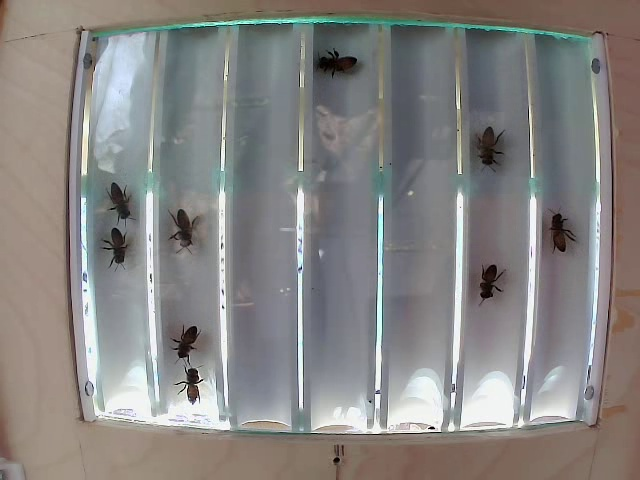bee: (317, 38, 358, 89), (167, 197, 198, 260), (97, 218, 133, 272), (171, 356, 209, 407), (473, 114, 502, 179), (539, 206, 576, 252), (462, 252, 497, 298), (104, 178, 136, 225), (158, 313, 192, 350)
